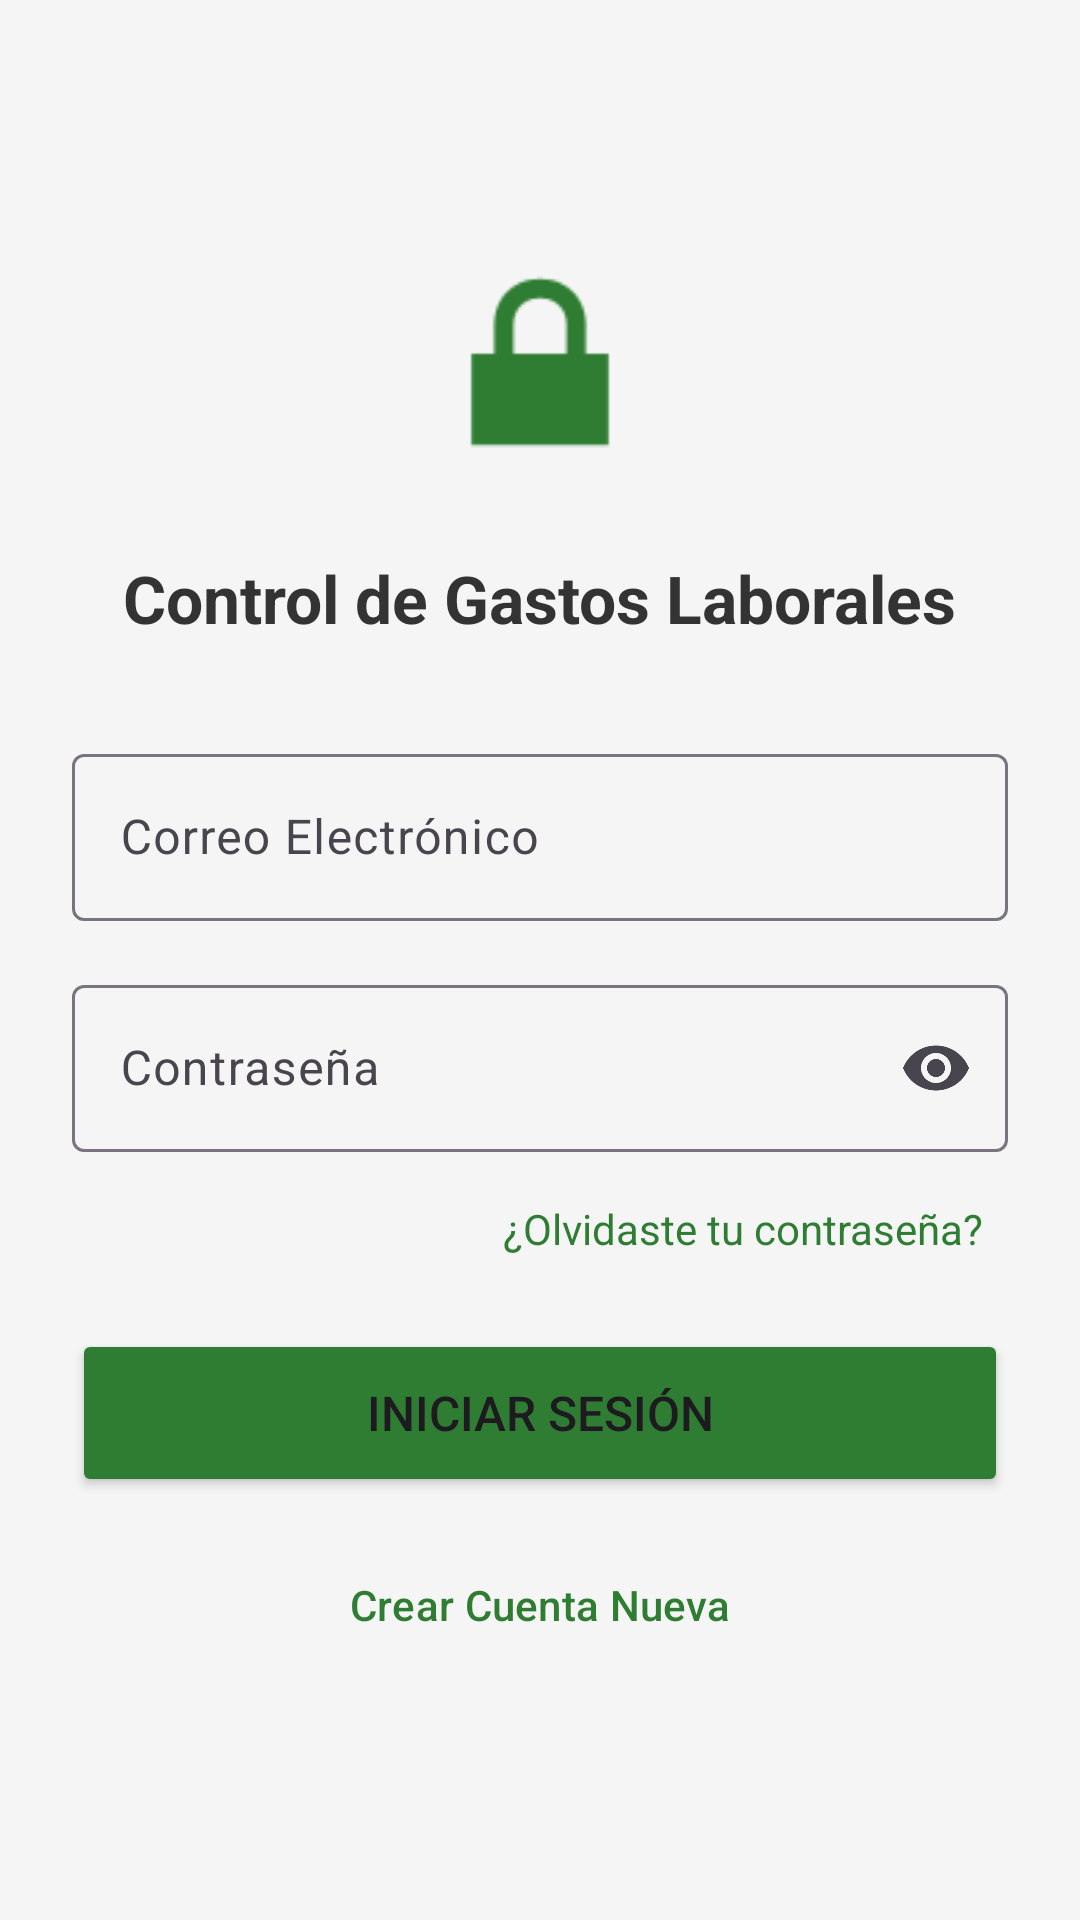

Icons on this 1080*1920 Android screen, each with its box as (x1, y1, x2, y2):
lock: (470, 277, 610, 447)
